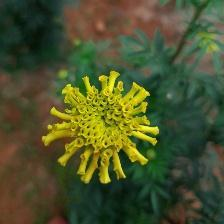marigold: (44, 70, 162, 187)
